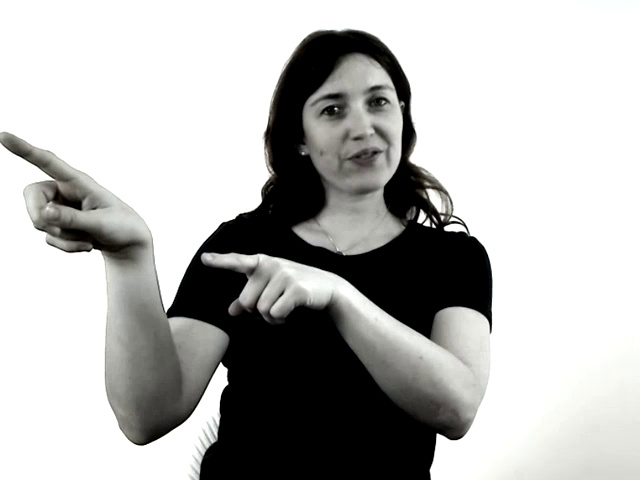go: (1, 126, 345, 352)
